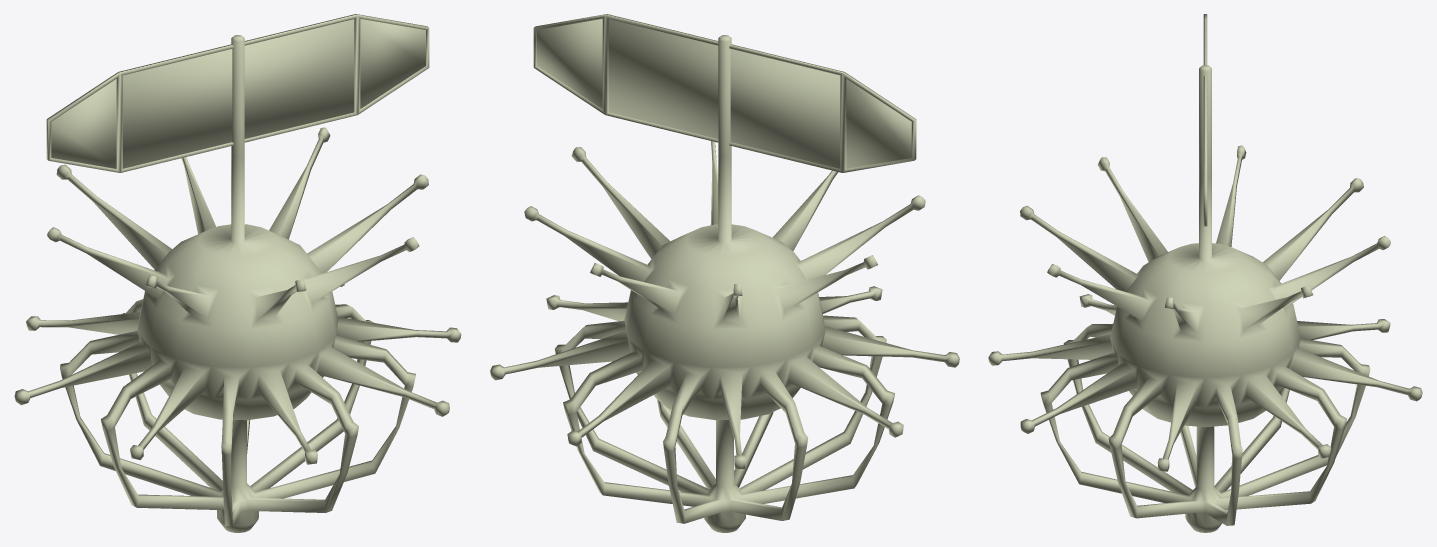
Rendered from Sky-Surveillance.obj.
3 renders of one model, left to right at view 1: azimuth 30°, elevation 25°; view 2: azimuth 150°, elevation 25°; view 3: azimuth 270°, elevation 25°, orthographic. The views are drawn at different scales.
Parts seen in each view (by area): view 1: sphere1, Cube2; view 2: sphere1, Cube2; view 3: sphere1, Cube2.
Boxes of the visible parts, x1,y1,x2,y2 form: sphere1: [14, 35, 461, 532]; Cube2: [46, 14, 429, 172]; sphere1: [490, 35, 959, 532]; Cube2: [533, 14, 916, 172]; sphere1: [988, 65, 1422, 532]; Cube2: [1203, 14, 1207, 226].
Size of the model in its own units: 8.41 by 9.84 by 8.41.
